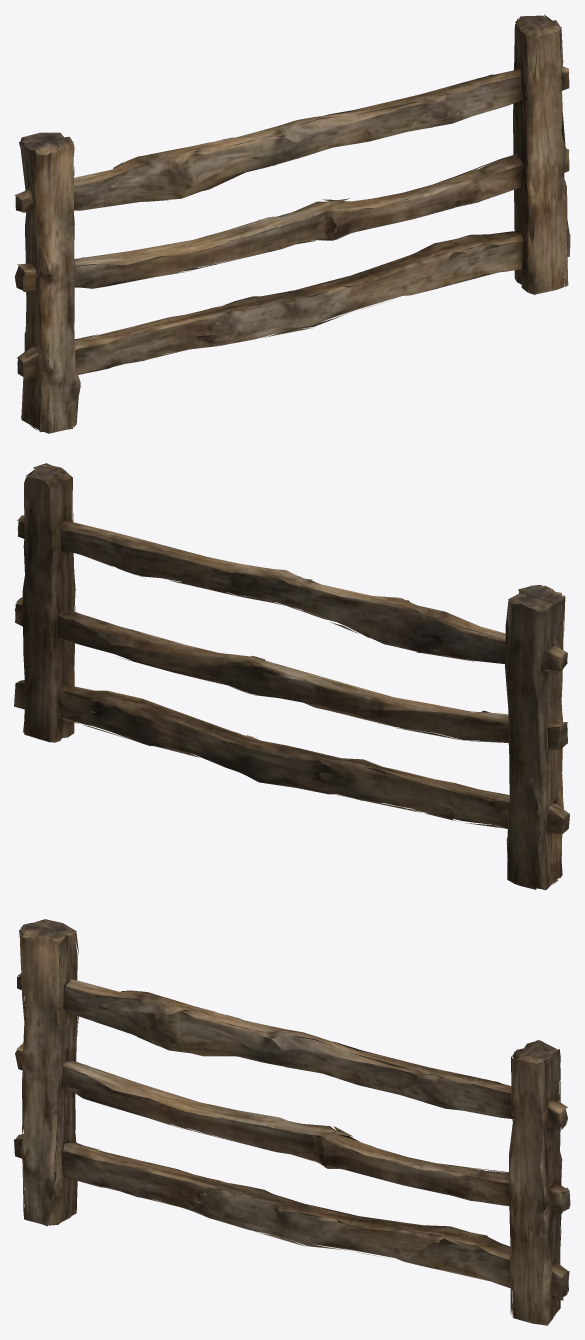
Rendered from wald_zaun.glb.
The picture shows the model from 3 angles, top to bottom: view 1: azimuth 30°, elevation 25°; view 2: azimuth 150°, elevation 25°; view 3: azimuth 330°, elevation 25°; orthographic projection.
Visible parts, largest first — view 1: Prop; view 2: Prop; view 3: Prop.
Part boxes in pixels (x1,y1,x2,y2): Prop: (14,14,570,433); Prop: (14,463,569,890); Prop: (14,919,570,1325).
Bounding box in the file's own units: 2.01 × 1.01 × 0.1756.
1 material, 1 textured.
